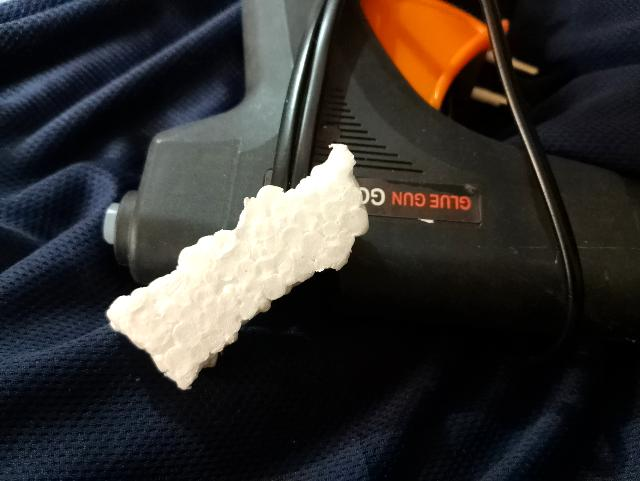cocksheet: (111, 139, 405, 404)
